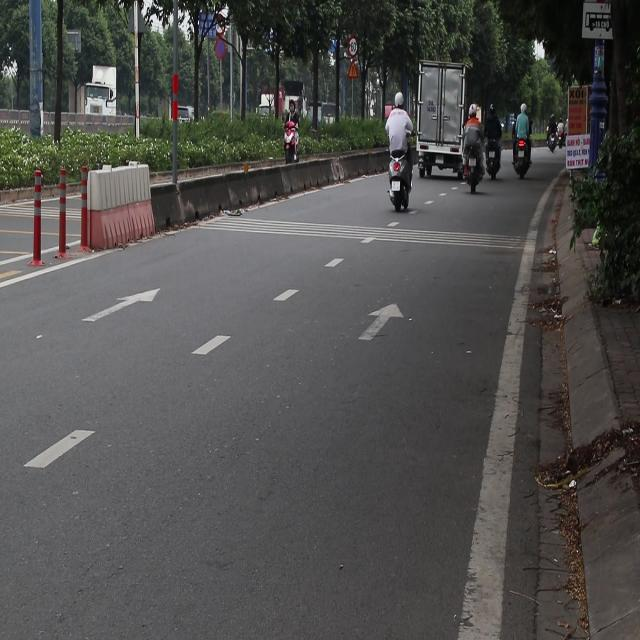car: (159, 96, 206, 136)
motorbike: (388, 152, 414, 214), (462, 132, 482, 196), (512, 132, 531, 180), (481, 137, 498, 184), (547, 122, 564, 152), (289, 114, 297, 169)
truck: (411, 60, 470, 182), (72, 70, 136, 159)
